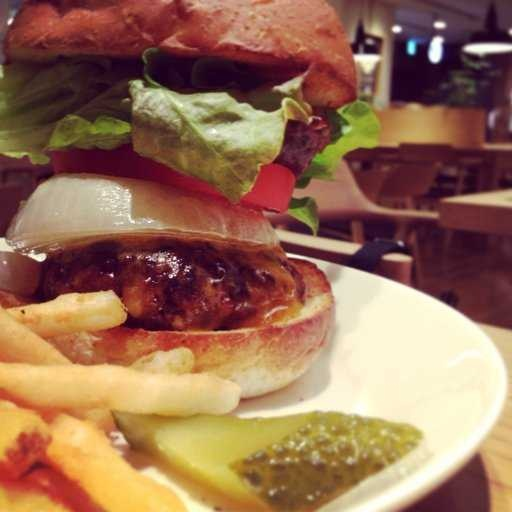hamburger: (1, 2, 400, 364)
